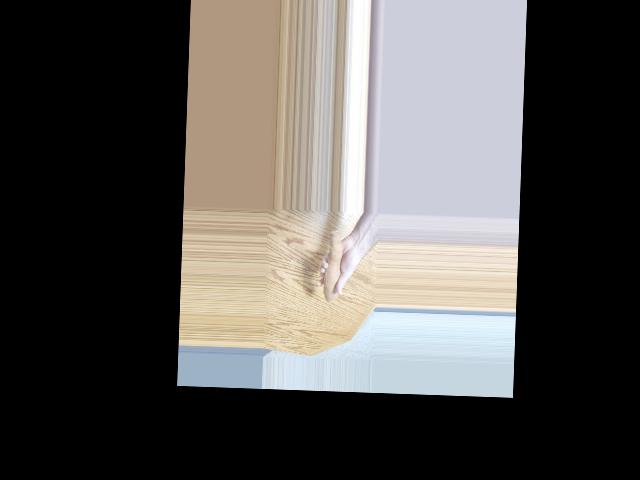sweet_potato: (320, 227, 351, 308)
